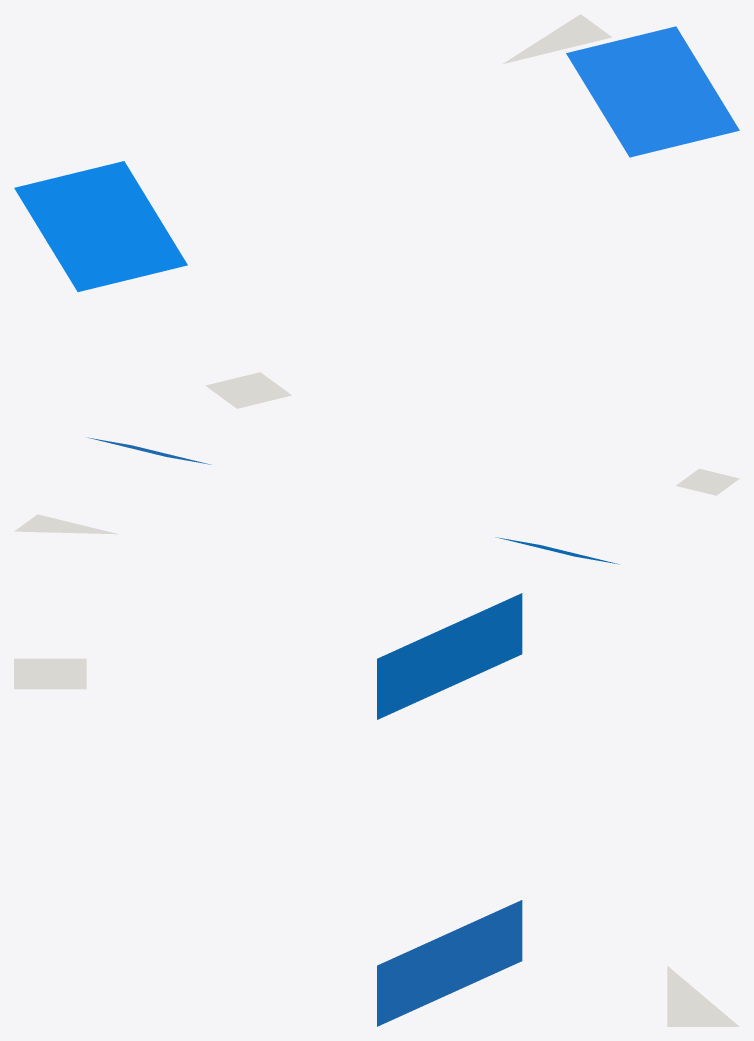
File: classic.dae
3 views of the same model, one above another, from view 1: azimuth 30°, elevation 25°; view 2: azimuth 150°, elevation 25°; view 3: azimuth 270°, elevation 25° (orthographic). The views are drawn at different scales.
Visible parts, largest first — view 1: IngeTrazo model; view 2: IngeTrazo model; view 3: IngeTrazo model.
Boxes of the visible parts, left/top/right/bottom form: IngeTrazo model: left=14, top=14, right=739, bottom=408; IngeTrazo model: left=14, top=437, right=739, bottom=564; IngeTrazo model: left=14, top=593, right=739, bottom=1026.
Bounding box in the file's own units: 12 × 10 × 1.
